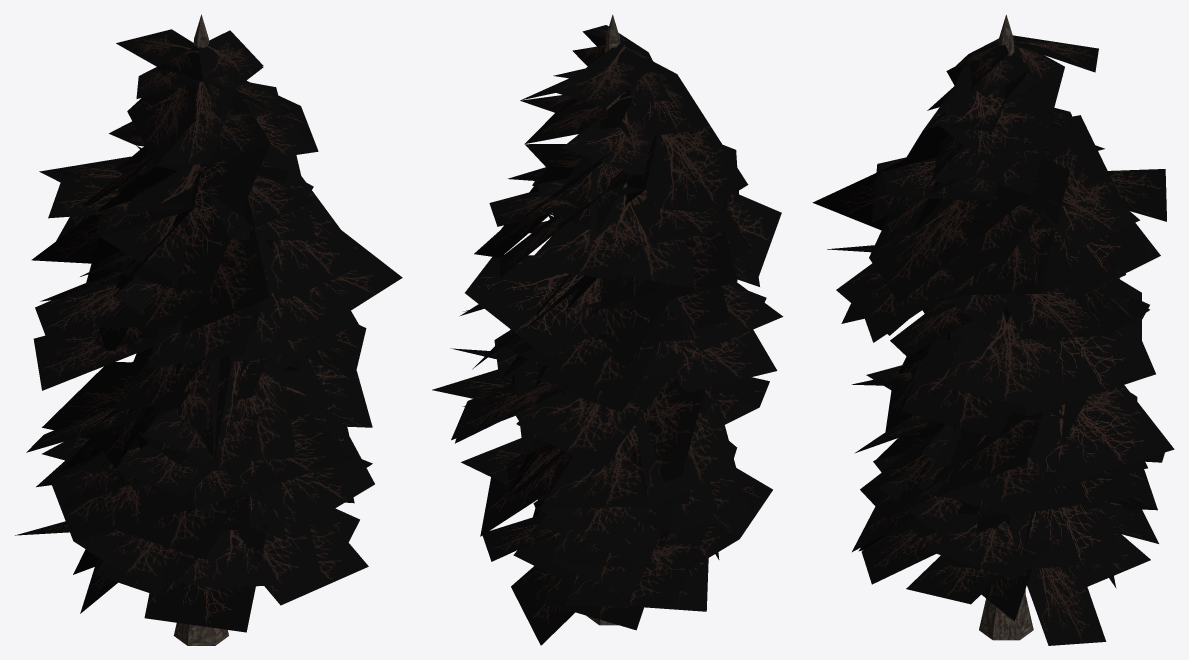
File: NoLeaves.fbx
3 views of the same model, side by side, from view 1: azimuth 30°, elevation 25°; view 2: azimuth 150°, elevation 25°; view 3: azimuth 270°, elevation 25° (orthographic). The views are drawn at different scales.
Parts seen in each view (by area): view 1: Branch; view 2: Branch; view 3: Branch.
Boxes of the visible parts, x1,y1,x2,y2 form: Branch: (15, 14, 402, 645); Branch: (432, 14, 783, 645); Branch: (812, 14, 1174, 645).
Size of the model in its own units: 3105 by 5541 by 2953.
2 materials, 2 textured.
